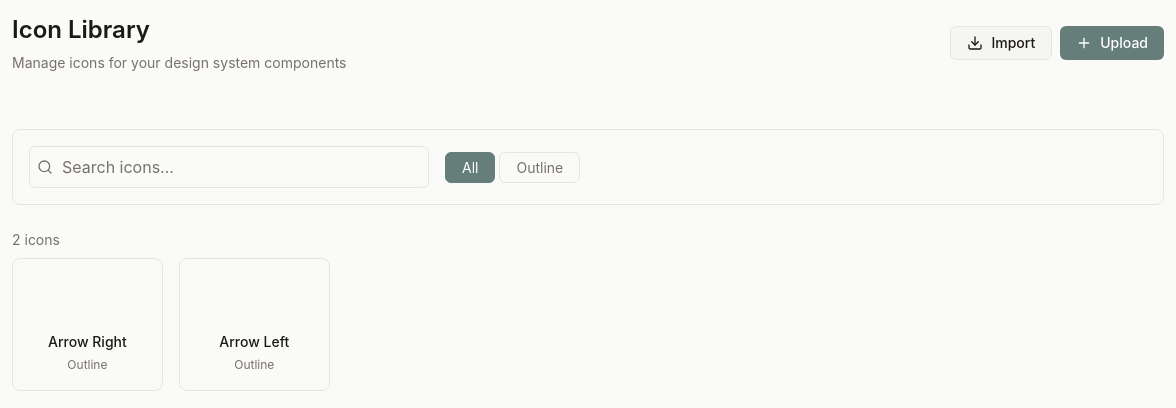
Test: IconsPage › visually selects icons when clicked and enables bulk delete
expect the text "Arrow Right" is shown: met, box [48,331,127,352]
Step 1. Click the button "Arrow Right outline" → (87, 324), box [12,258,163,391]
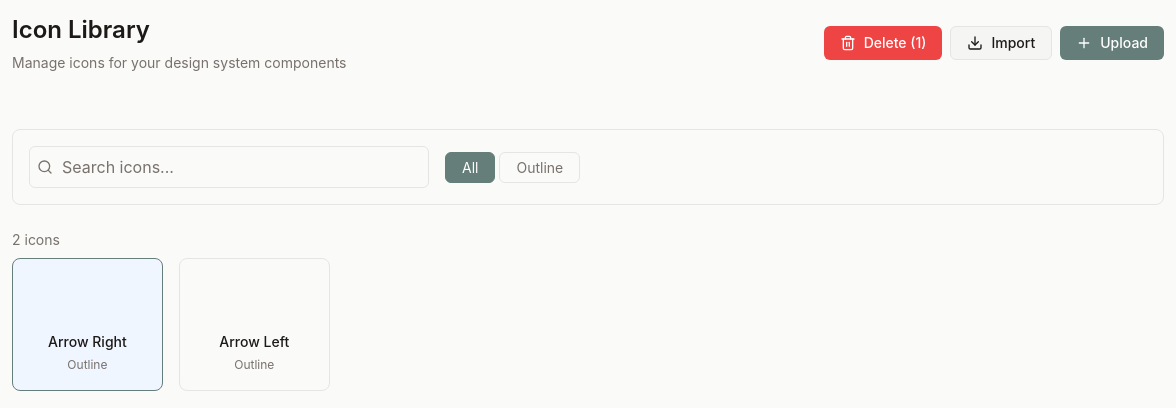
expect the button "Delete (1)" is shown: met, box [824,26,942,60]
